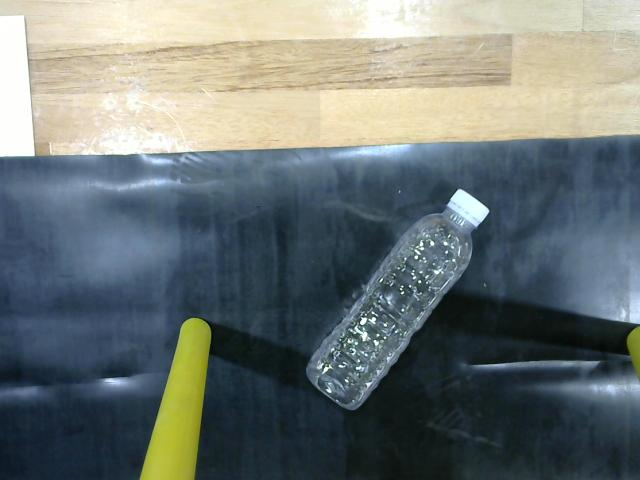bottle: (293, 180, 509, 431)
